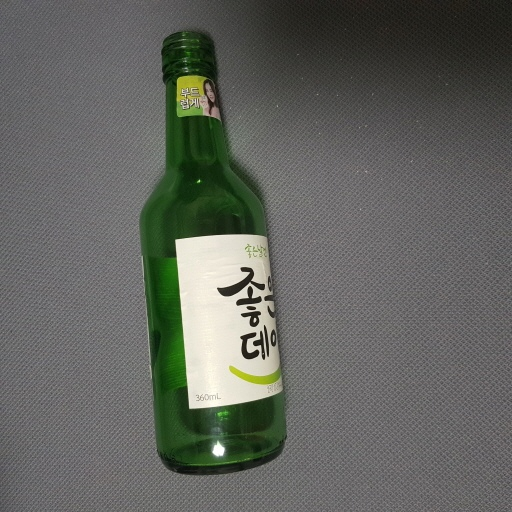Glass_0: (138, 29, 291, 479)
